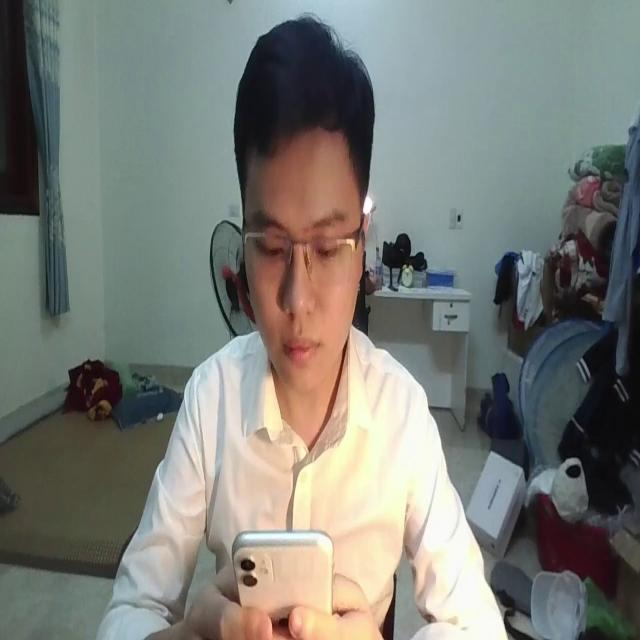phone: (229, 522, 333, 630)
student: (96, 14, 508, 640)
